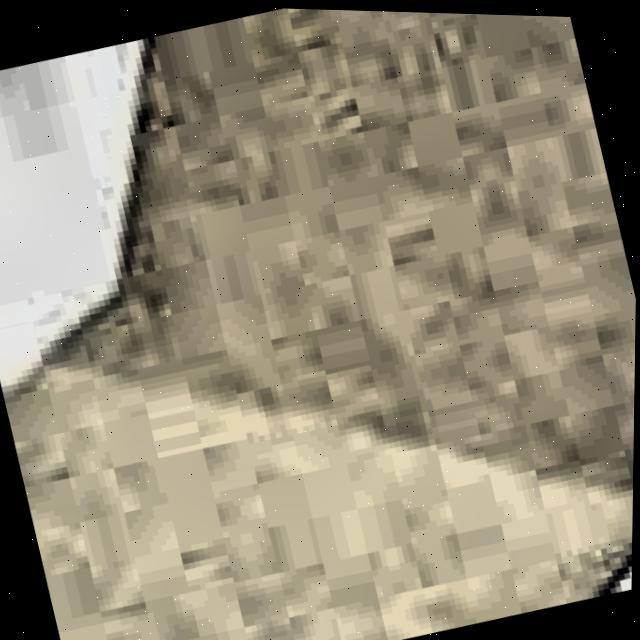paper: (6, 7, 637, 640)
